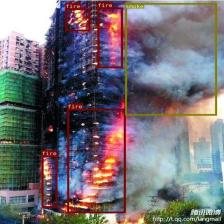fire: (67, 108, 125, 213), (97, 7, 122, 68), (41, 155, 57, 208), (65, 8, 90, 30)
smoke: (125, 3, 217, 115)
